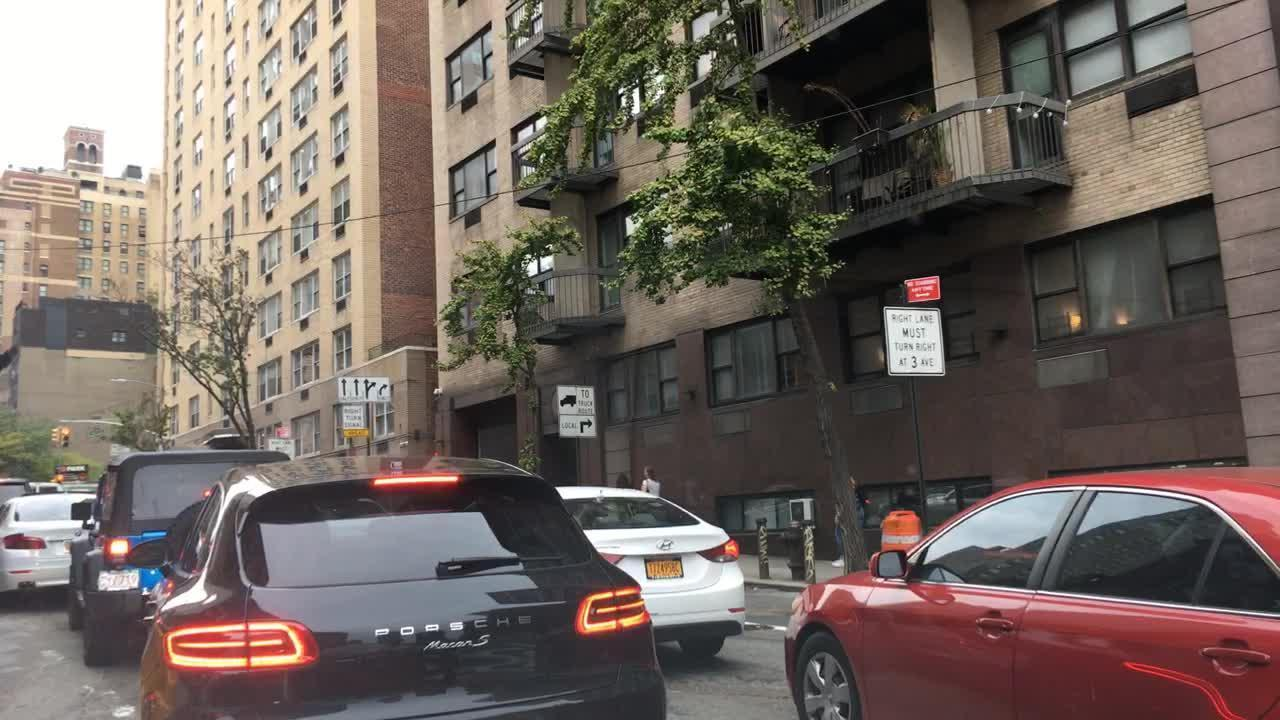Hyundai: (653, 534, 677, 552)
porsche: (374, 610, 541, 649)
